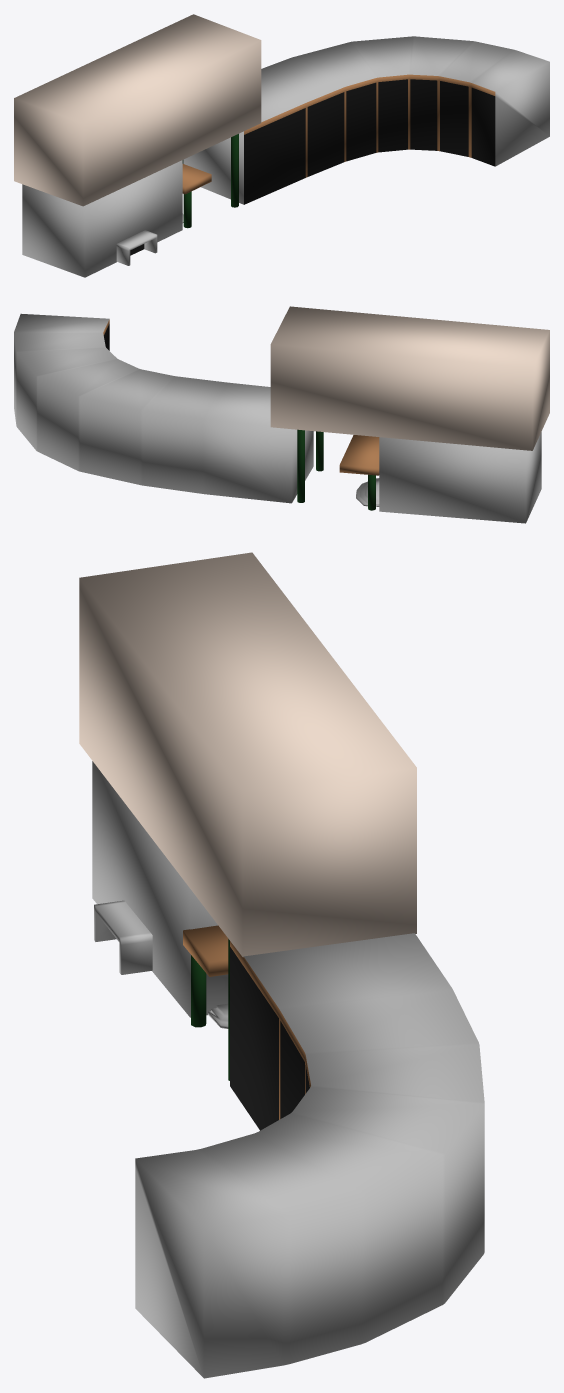
Rendered from School.fbx.
3 views of the same model, one above another, from view 1: azimuth 30°, elevation 25°; view 2: azimuth 150°, elevation 25°; view 3: azimuth 270°, elevation 25° (orthographic). The views are drawn at different scales.
Parts seen in each view (by area): view 1: 평면; view 2: 평면; view 3: 평면.
Part boxes in pixels (<box>): 평면: <box>14,14,549,277</box>; 평면: <box>14,306,549,523</box>; 평면: <box>79,552,484,1378</box>.
Size of the model in its own units: 1073 by 309 by 360.
